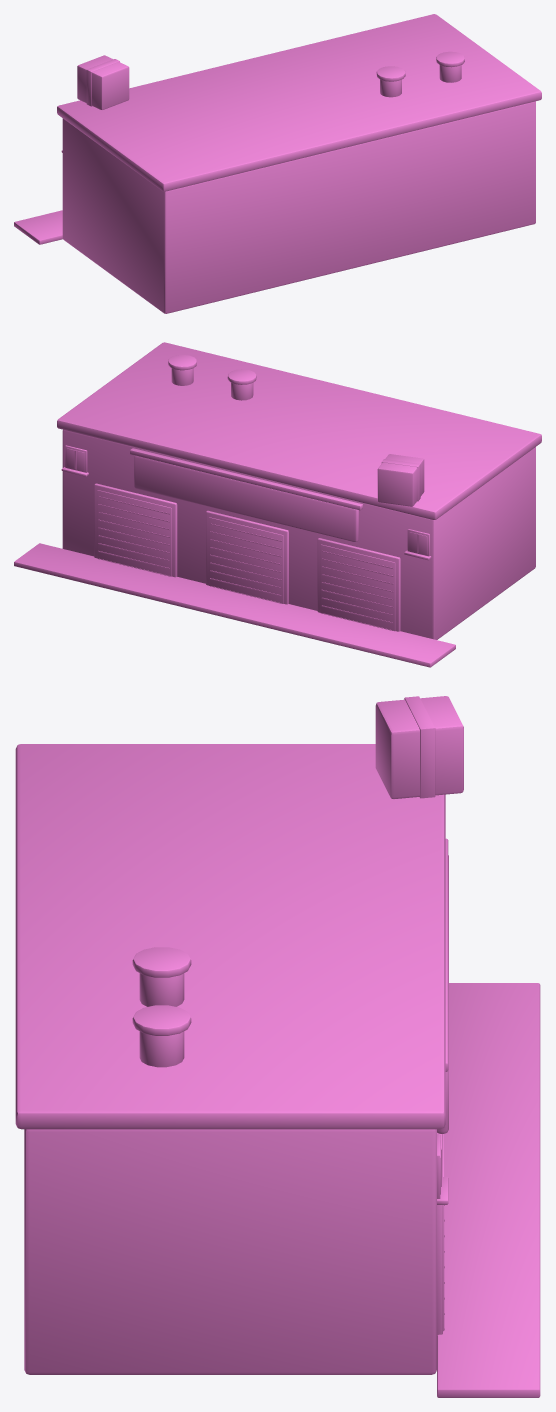
Rendered from Hub_Depot.fbx.
3 renders of one model, top to bottom at view 1: azimuth 30°, elevation 25°; view 2: azimuth 150°, elevation 25°; view 3: azimuth 270°, elevation 25°, orthographic. The views are drawn at different scales.
Visible parts, largest first — view 1: Paint, Body; view 2: Body, Paint; view 3: Body, Paint.
Part boxes in pixels (left/top/right/bottom): Paint: left=62, top=101, right=535, bottom=313; Body: left=14, top=14, right=541, bottom=244; Body: left=14, top=342, right=541, bottom=667; Paint: left=62, top=429, right=535, bottom=639; Body: left=15, top=696, right=540, bottom=1397; Paint: left=24, top=1129, right=436, bottom=1374.
Size of the model in its own units: 56 by 21.65 by 30.5.
1 material, 1 textured.
